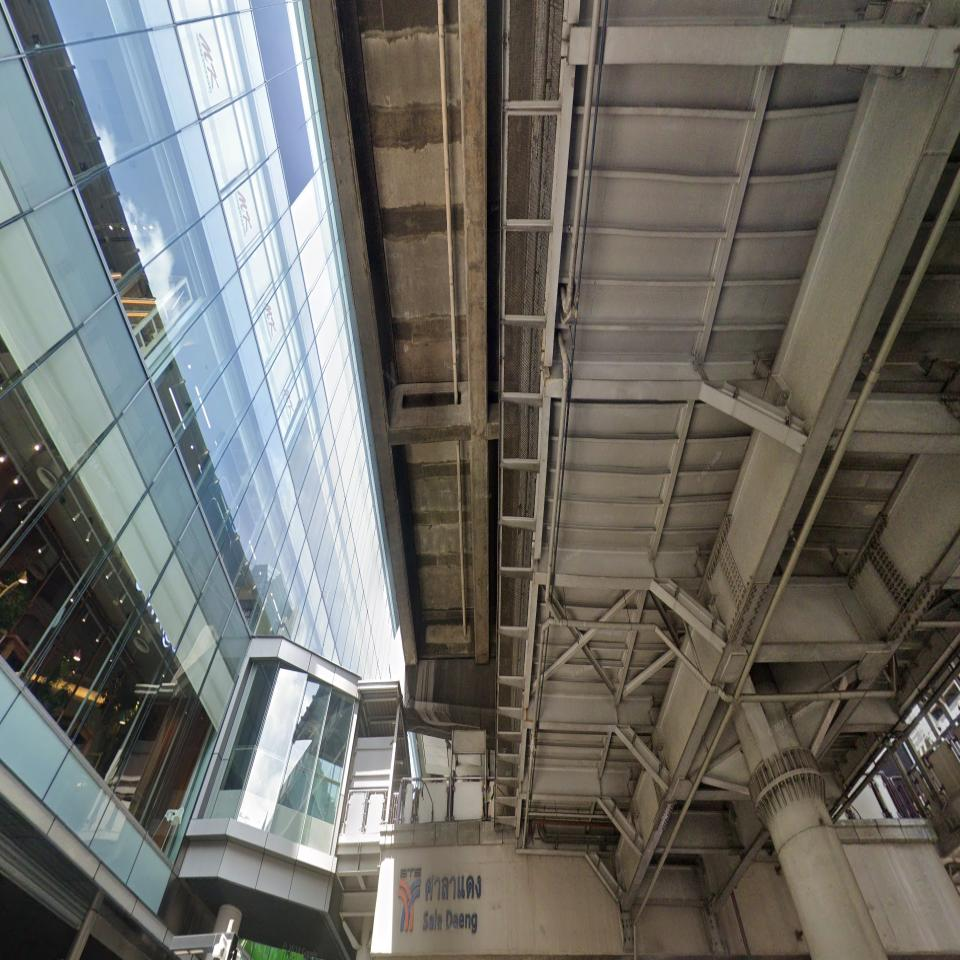signage: (396, 866, 483, 934), (422, 873, 482, 934)
